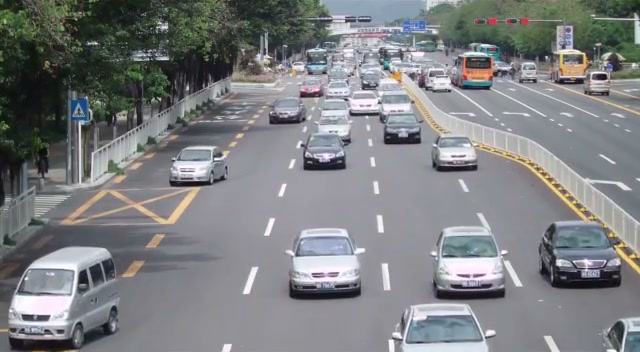bus: (450, 52, 494, 89)
car: (430, 225, 509, 299), (285, 227, 366, 299), (538, 220, 623, 288), (388, 302, 496, 352), (169, 145, 228, 186), (430, 134, 478, 171), (302, 132, 347, 171), (602, 316, 640, 352), (383, 112, 422, 144), (377, 90, 412, 125), (269, 97, 305, 124), (348, 90, 380, 116), (583, 70, 611, 96)
truck: (7, 245, 121, 350), (450, 52, 494, 89), (552, 50, 588, 84), (583, 70, 611, 96), (518, 62, 538, 84)
